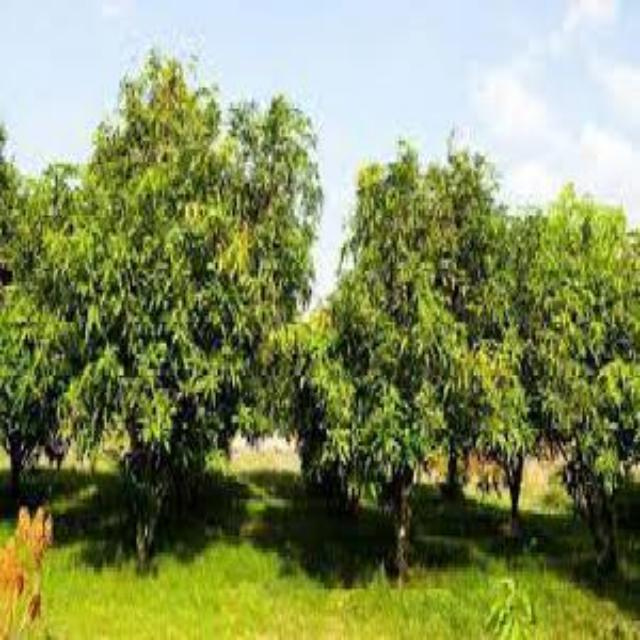tree: (64, 39, 324, 563), (314, 130, 498, 576), (502, 184, 638, 578)
